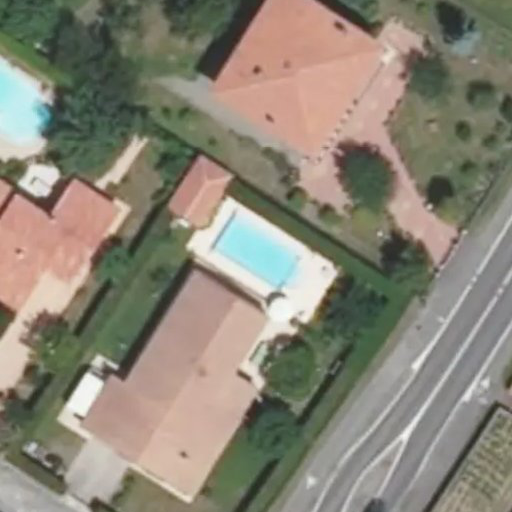pool: (209, 235, 302, 248)
